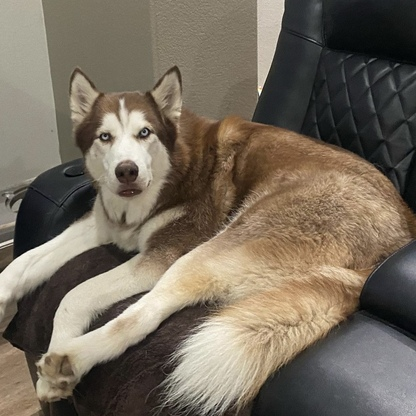husky: (3, 63, 414, 410)
